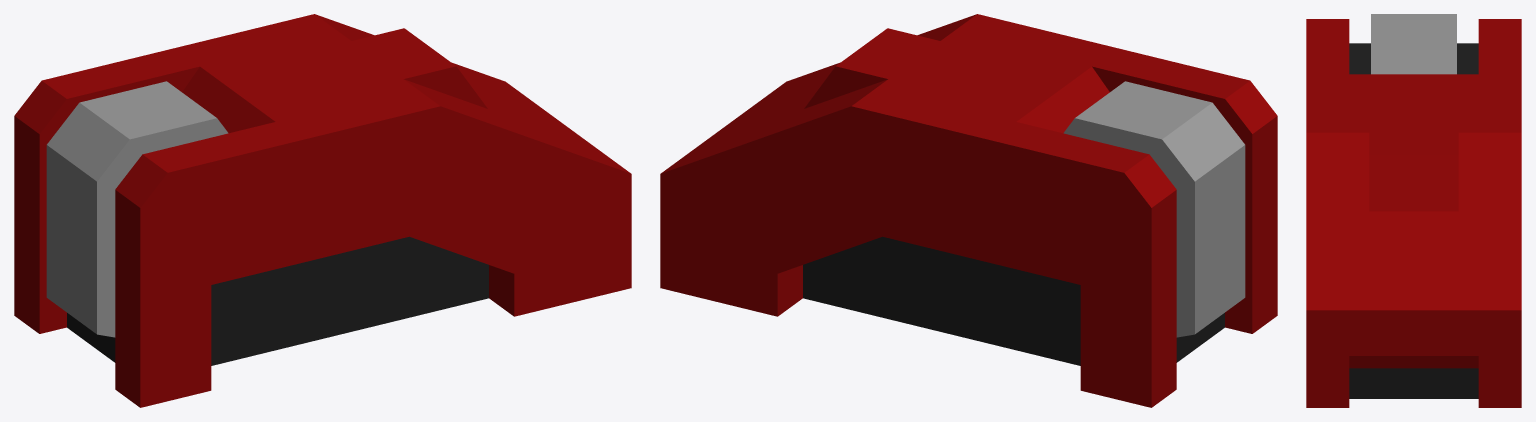
File: SM_Knuckle.fbx
3 views of the same model, side by side, from view 1: azimuth 30°, elevation 25°; view 2: azimuth 150°, elevation 25°; view 3: azimuth 270°, elevation 25° (orthographic). The views are drawn at different scales.
Visible parts, largest first — view 1: group_0.003; view 2: group_0.003; view 3: group_0.003.
Part boxes in pixels (box(x1,y1,x2,y2)): group_0.003: box(14, 14, 631, 407); group_0.003: box(660, 14, 1277, 407); group_0.003: box(1306, 14, 1521, 407).
Bounding box in the file's own units: 228 × 103 × 100.
